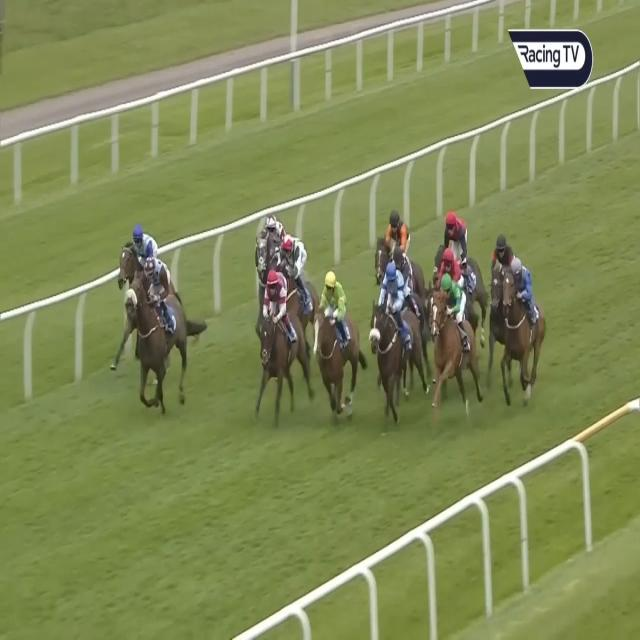horses-racing: (128, 258, 185, 406), (427, 268, 483, 414), (255, 261, 307, 414), (372, 259, 423, 412), (497, 253, 548, 402), (311, 273, 356, 411), (370, 209, 422, 269), (118, 223, 154, 290), (251, 206, 281, 276), (487, 232, 528, 280), (283, 232, 308, 304), (436, 209, 475, 252), (389, 238, 417, 292), (435, 246, 467, 280)
